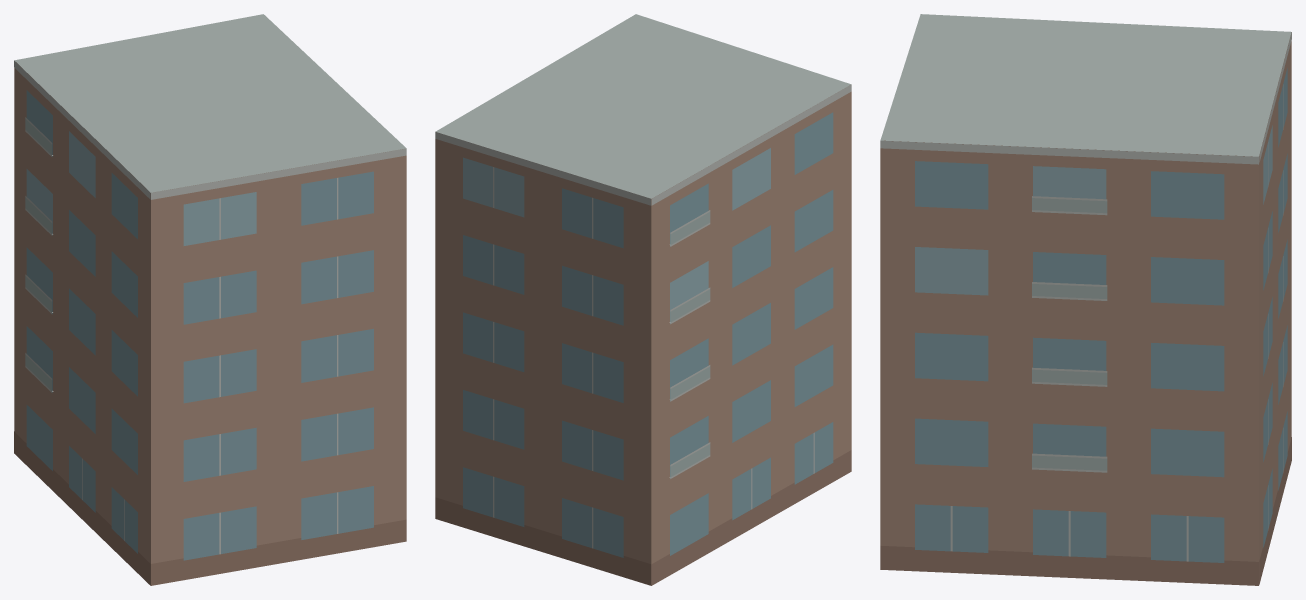
File: survey-upis-32964840.glb
3 renders of one model, left to right at view 1: azimuth 30°, elevation 25°; view 2: azimuth 150°, elevation 25°; view 3: azimuth 270°, elevation 25°, orthographic. The views are drawn at different scales.
Parts seen in each view (by area): view 1: survey-upis-32964840.tmp; view 2: survey-upis-32964840.tmp; view 3: survey-upis-32964840.tmp.
Boxes of the visible parts, x1,y1,x2,y2 form: survey-upis-32964840.tmp: [14, 14, 406, 585]; survey-upis-32964840.tmp: [435, 14, 851, 585]; survey-upis-32964840.tmp: [880, 14, 1291, 585].
Size of the model in its own units: 9.57 by 13.4 by 11.65.
